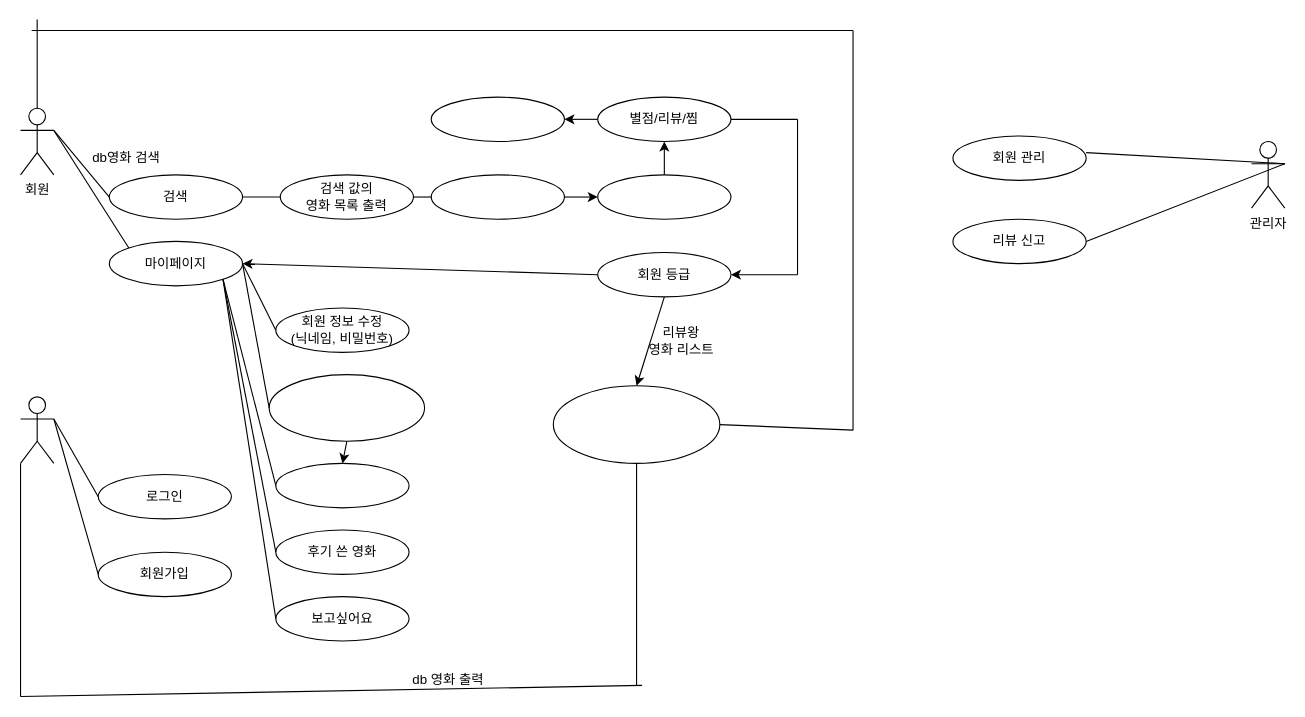
This 1305x717 diagram has some shape labels left out. The shapes that lost their labels are listed below. From the top down, each one's box as (x1, y1, x2, y2) in pixels, then its label:
(430, 96, 564, 142): 리뷰 출력
(430, 174, 564, 219): 영화 상세 정보
(597, 174, 731, 219): 영화 기본 정보
(268, 374, 425, 441): 평가하기 (장르별 리스트 선택가능)
(552, 385, 720, 463): 영화 목록 조회 (인기작, 평점 상위 10개)
(19, 396, 54, 463): 비회원
(275, 462, 409, 508): 취향분석
